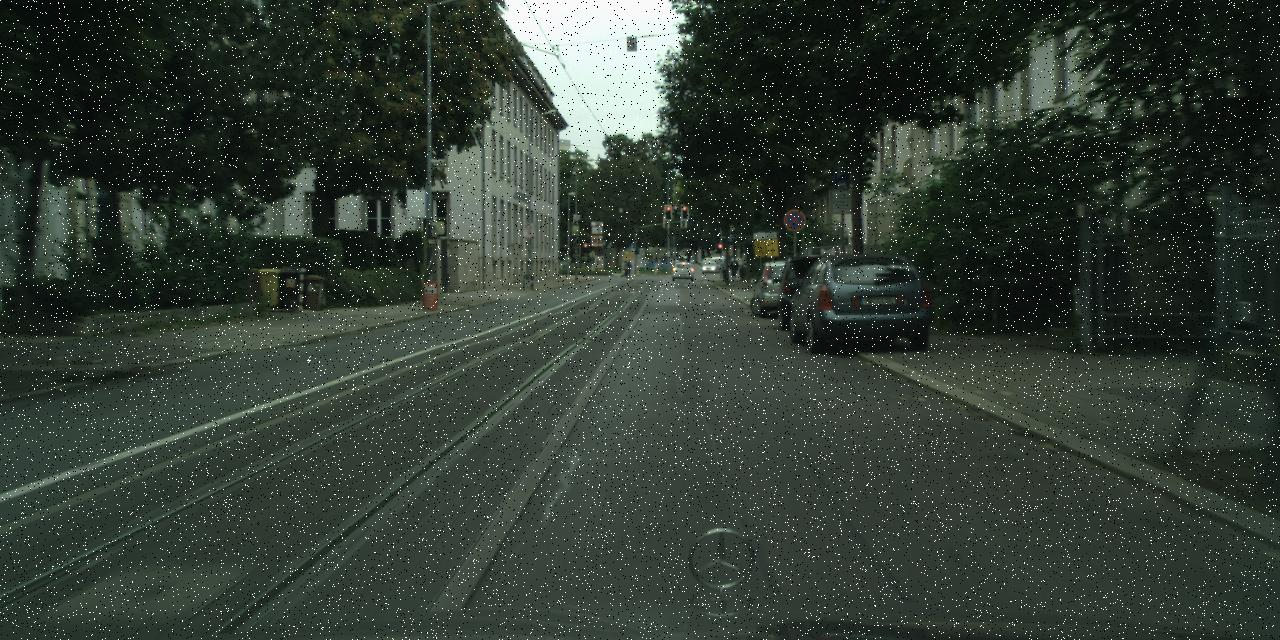ped: (729, 256, 738, 281), (720, 258, 729, 280), (624, 259, 632, 277), (620, 260, 628, 277)
